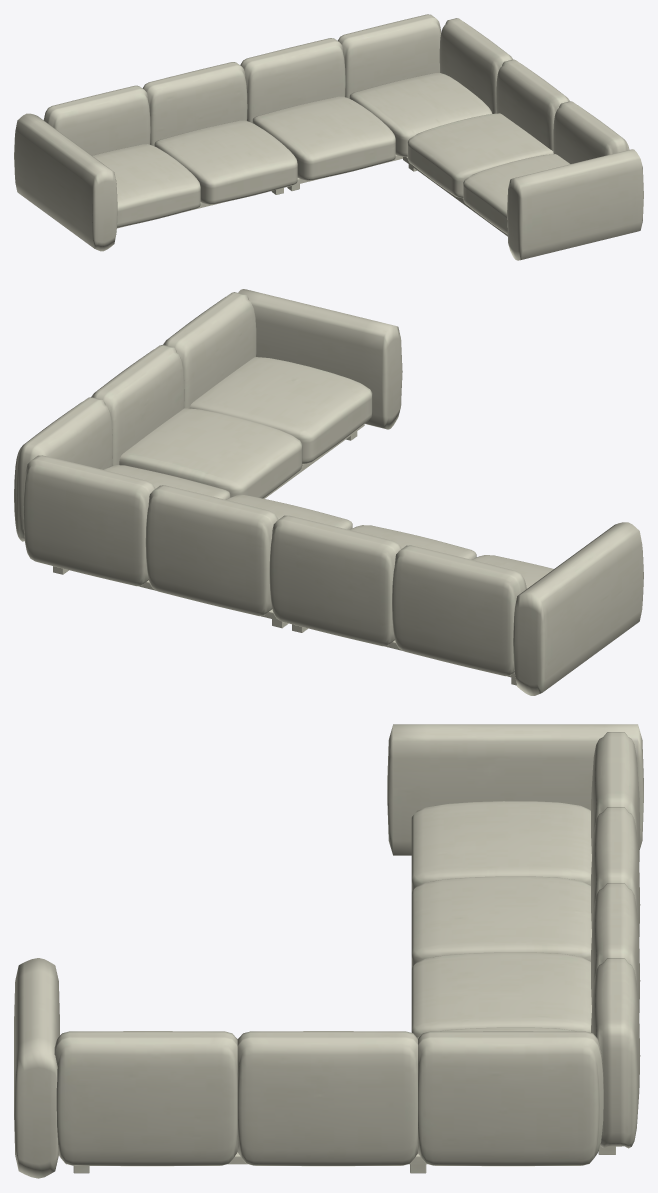
File: sofa_set.glb
3 renders of one model, top to bottom at view 1: azimuth 30°, elevation 25°; view 2: azimuth 150°, elevation 25°; view 3: azimuth 270°, elevation 25°, orthographic. The views are drawn at different scales.
Visible parts, largest first — view 1: couch_arm1, couch_arm, cushion_bottom3, cushion_bottom1, cushion_bottom4, cushion_back3, cushion_back1, cushion_back2, cushion_bottom, cushion_bottom2, cushion_back, cushion_back4 (+3 smaller); view 2: couch_arm, cushion_back3, cushion_back2, cushion_back1, cushion_back, couch_arm1, cushion_bottom4, cushion_bottom5, cushion_back6, cushion_back5, cushion_back4, cushion_bottom3 (+3 smaller); view 3: cushion_back4, cushion_back6, cushion_back5, couch_arm, cushion_bottom1, cushion_bottom, cushion_bottom3, couch_arm1, cushion_back2, cushion_back1, cushion_back, cushion_back3.
Part boxes in pixels (x1,y1,x2,y2): couch_arm1: (507, 149, 643, 260); couch_arm: (14, 113, 117, 251); cushion_bottom3: (252, 96, 395, 180); cushion_bottom1: (154, 120, 297, 204); cushion_bottom4: (407, 113, 553, 198); cushion_back3: (240, 38, 345, 122); cushion_back1: (142, 62, 247, 145); cushion_back2: (337, 14, 440, 98); cushion_bottom: (92, 144, 200, 227); cushion_bottom2: (349, 73, 492, 156); cushion_back: (43, 85, 150, 155); cushion_back4: (439, 18, 513, 113); couch_arm: (513, 522, 643, 695); cushion_back3: (145, 485, 278, 616); cushion_back2: (23, 455, 155, 586); cushion_back1: (269, 515, 401, 646); cushion_back: (392, 545, 526, 676); couch_arm1: (238, 289, 402, 429); cushion_bottom4: (119, 408, 302, 498); cushion_bottom5: (189, 357, 372, 464); cushion_back6: (163, 292, 256, 408); cushion_back5: (91, 345, 184, 465); cushion_back4: (14, 397, 112, 541); cushion_bottom3: (226, 495, 352, 529); cushion_back4: (418, 1031, 603, 1166); cushion_back6: (54, 1031, 237, 1166); cushion_back5: (237, 1031, 417, 1166); couch_arm: (387, 724, 643, 855); cushion_bottom1: (411, 876, 591, 967); cushion_bottom: (411, 801, 591, 891); cushion_bottom3: (411, 952, 591, 1036); couch_arm1: (14, 958, 59, 1178); cushion_back2: (591, 958, 640, 1148); cushion_back1: (591, 807, 640, 941); cushion_back: (591, 732, 640, 865); cushion_back3: (591, 883, 640, 1016).
Bounding box in the file's own units: 3.4 × 0.6568 × 2.68.
1 material, 1 textured.
